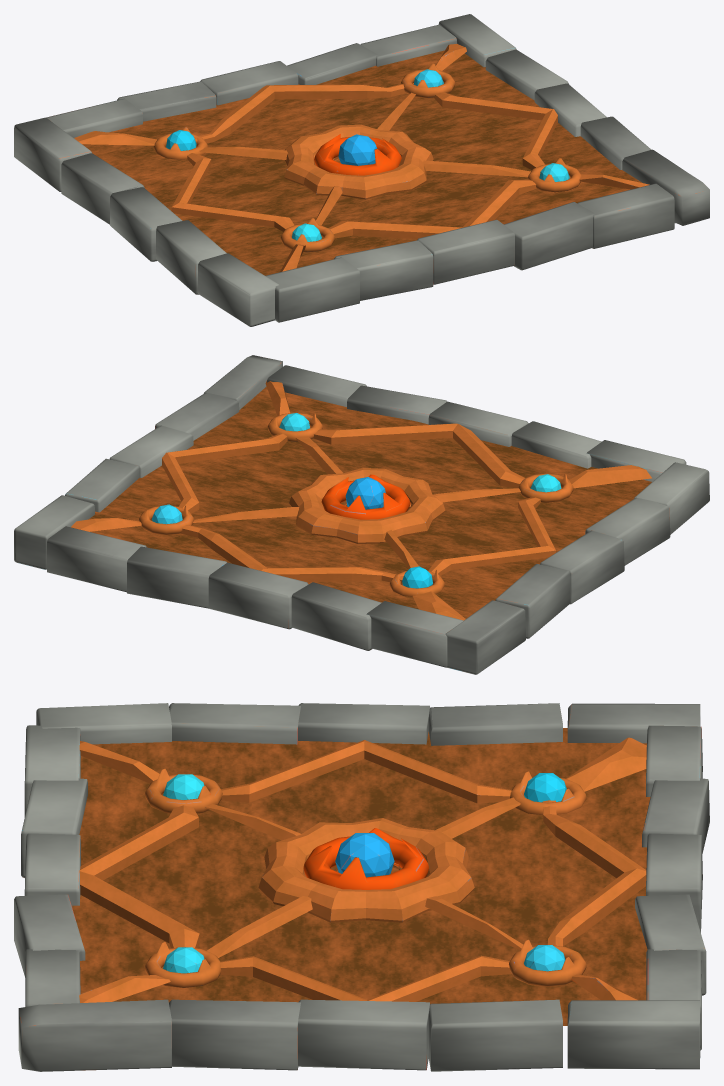
The model's file is floortraporg1.fbx.
The picture shows the model from 3 angles, top to bottom: view 1: azimuth 30°, elevation 25°; view 2: azimuth 150°, elevation 25°; view 3: azimuth 270°, elevation 25°; orthographic projection. The views are drawn at different scales.
Parts seen in each view (by area): view 1: Icosphere.017; view 2: Icosphere.017; view 3: Icosphere.017.
Boxes of the visible parts, left/top/right/bottom form: Icosphere.017: left=14, top=14, right=709, bottom=326; Icosphere.017: left=14, top=355, right=709, bottom=674; Icosphere.017: left=14, top=703, right=709, bottom=1071.
Size of the model in its own units: 473 by 54.03 by 427.
